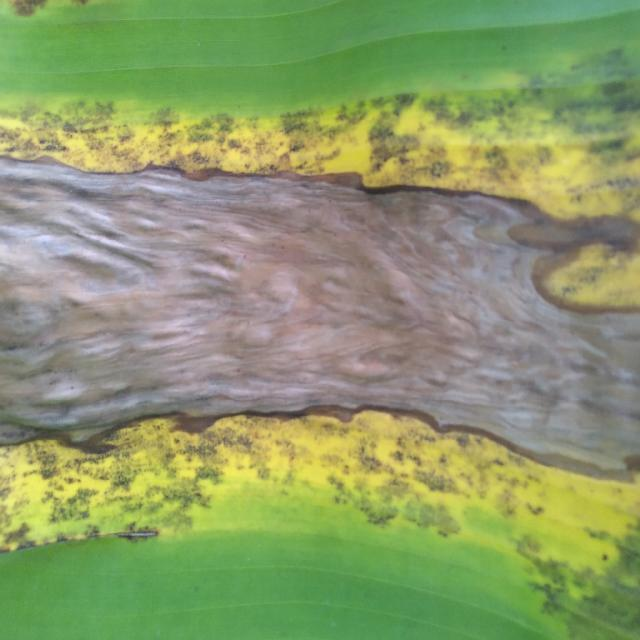Early_rust: (0, 80, 640, 592)
